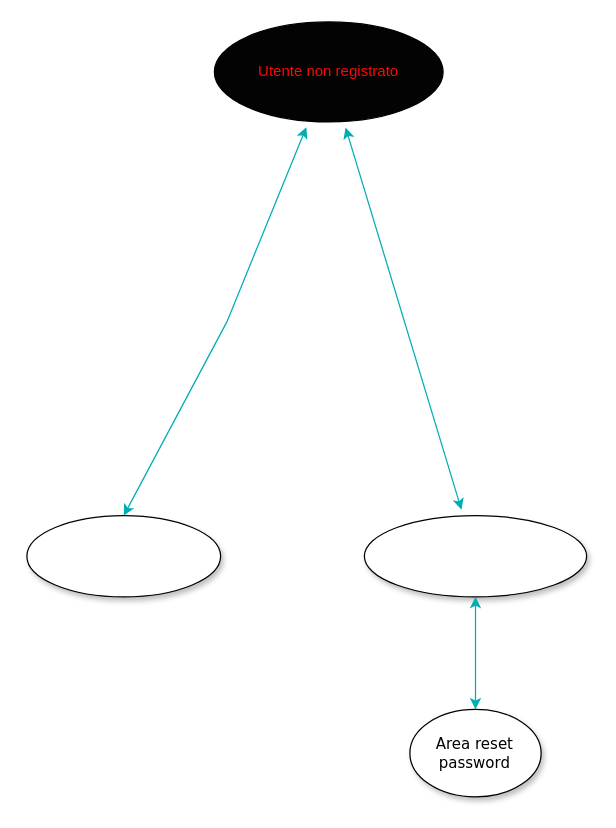
Some shapes in this 616 by 828 pixel diagram are drawn without their labels. The shapes that lost their labels are listed below. From the top down, each one's centre as x and y in pixels, then its label:
At (124,557): "Registrazione".
At (476,557): "Login".
